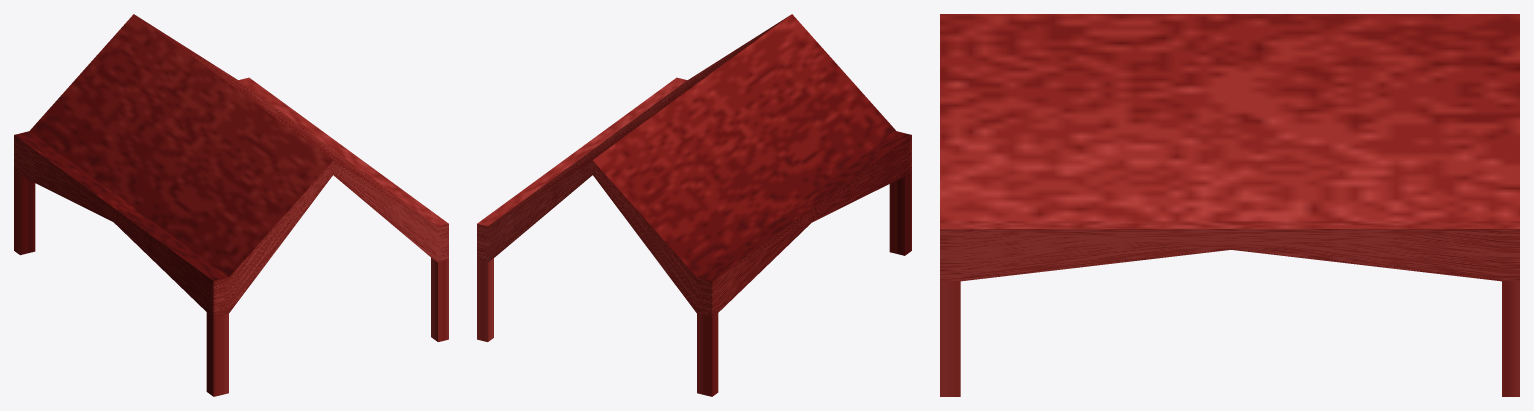
Rendered from carpa2.fbx.
3 renders of one model, left to right at view 1: azimuth 30°, elevation 25°; view 2: azimuth 150°, elevation 25°; view 3: azimuth 270°, elevation 25°, orthographic. The views are drawn at different scales.
Visible parts, largest first — view 1: Cubo.003; view 2: Cubo.003; view 3: Cubo.003.
Boxes of the visible parts, box(x1,y1,x2,y2) form: Cubo.003: box(14, 14, 448, 396); Cubo.003: box(477, 14, 911, 396); Cubo.003: box(940, 14, 1519, 396).
Bounding box in the file's own units: 3400 × 2867 × 5000.
1 material, 1 textured.
